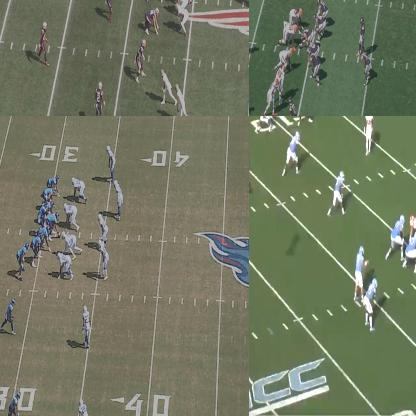CENTER: (48, 211, 58, 236), (300, 27, 313, 46)
DB: (38, 20, 50, 66), (365, 116, 375, 156), (82, 304, 90, 348), (95, 84, 105, 115), (108, 144, 116, 178), (78, 397, 90, 415)
LB: (264, 78, 281, 115), (138, 39, 146, 81), (114, 176, 122, 218), (99, 240, 108, 275), (99, 214, 108, 241), (108, 0, 117, 20)
QB: (353, 246, 363, 298), (358, 16, 366, 52), (38, 200, 48, 225)
SKILL: (284, 131, 302, 173), (365, 278, 380, 326), (334, 168, 346, 212), (3, 296, 15, 331), (8, 389, 22, 415), (161, 69, 171, 105), (362, 50, 372, 85), (176, 86, 188, 115), (48, 174, 61, 197), (17, 245, 26, 278), (288, 102, 302, 115)
